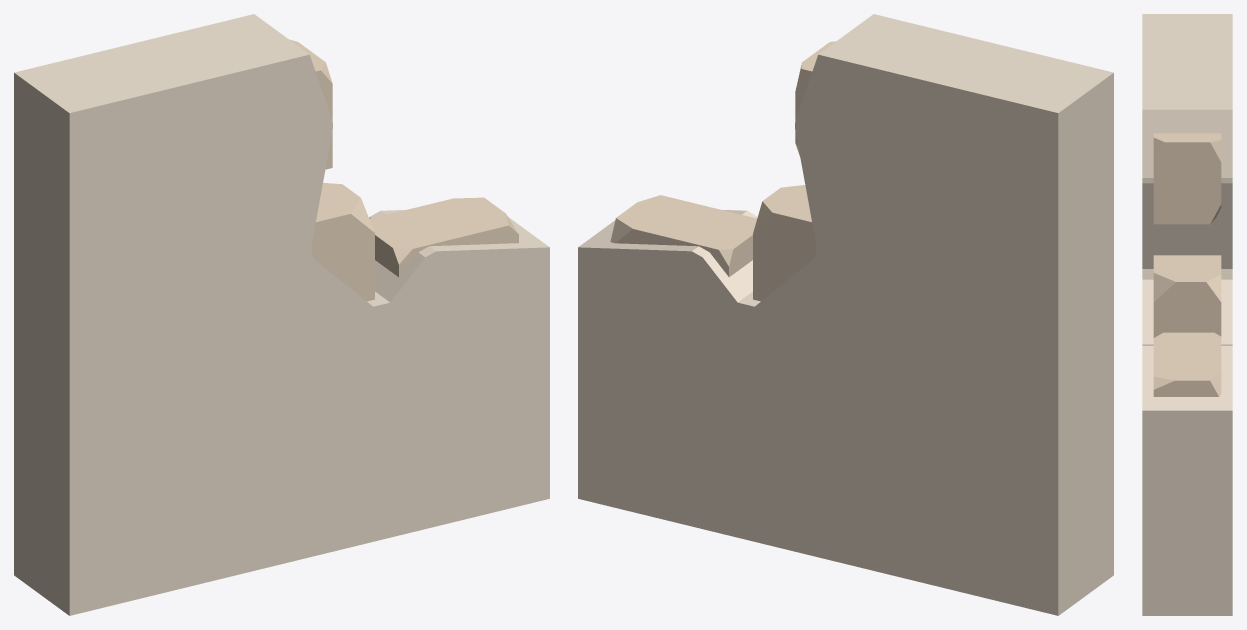
The model's file is Wall_Ruined_Corner_Inner_1.glb.
The picture shows the model from 3 angles, left to right: view 1: azimuth 30°, elevation 25°; view 2: azimuth 150°, elevation 25°; view 3: azimuth 270°, elevation 25°; orthographic projection. The views are drawn at different scales.
Parts seen in each view (by area): view 1: Wall_Ruined_Corner_Inner_1; view 2: Wall_Ruined_Corner_Inner_1; view 3: Wall_Ruined_Corner_Inner_1.
Part boxes in pixels (bbox=[...]): Wall_Ruined_Corner_Inner_1: bbox=[14, 14, 549, 615]; Wall_Ruined_Corner_Inner_1: bbox=[578, 14, 1113, 615]; Wall_Ruined_Corner_Inner_1: bbox=[1142, 14, 1232, 615].
Size of the model in its own units: 1 by 1 by 0.2.
